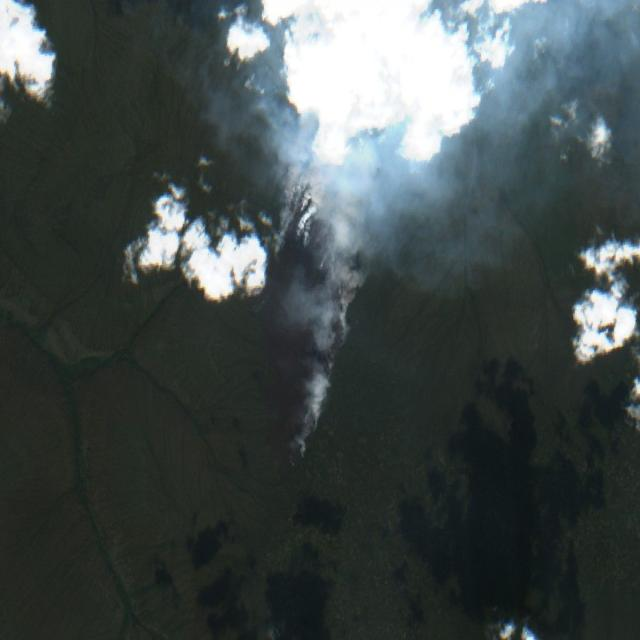fire: (245, 162, 354, 493)
